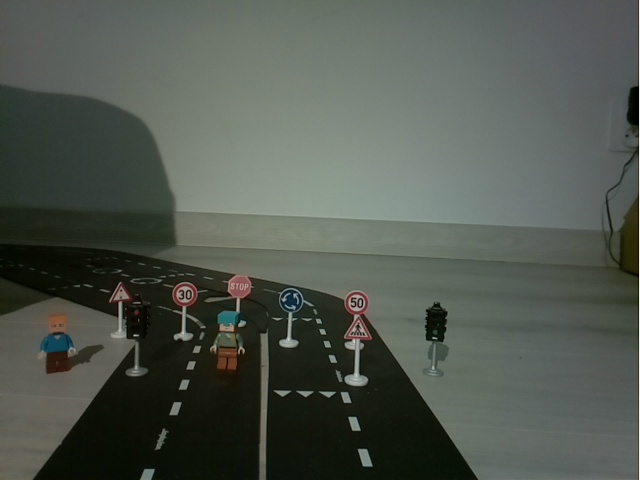green light: (422, 301, 451, 380)
limit 30: (169, 281, 199, 343)
limit 50: (342, 290, 374, 317)
pedestrian sign: (346, 319, 373, 387)
person: (36, 310, 82, 377)
red light: (129, 294, 152, 380)
round: (273, 285, 307, 355)
second person: (207, 310, 248, 373)
stop: (225, 272, 253, 310)
traffic light sign: (106, 280, 128, 339)
